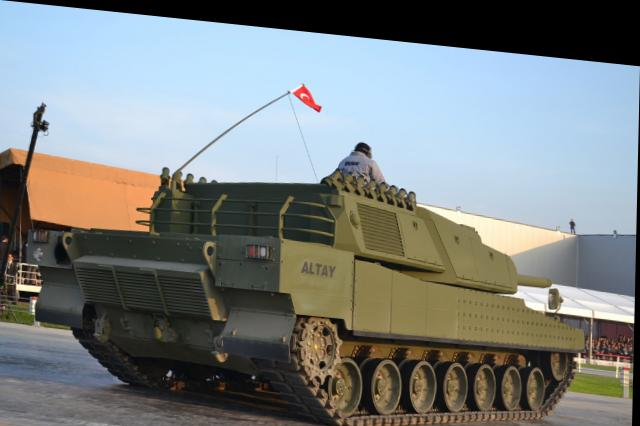tank: (29, 140, 586, 424), (322, 118, 404, 178)
